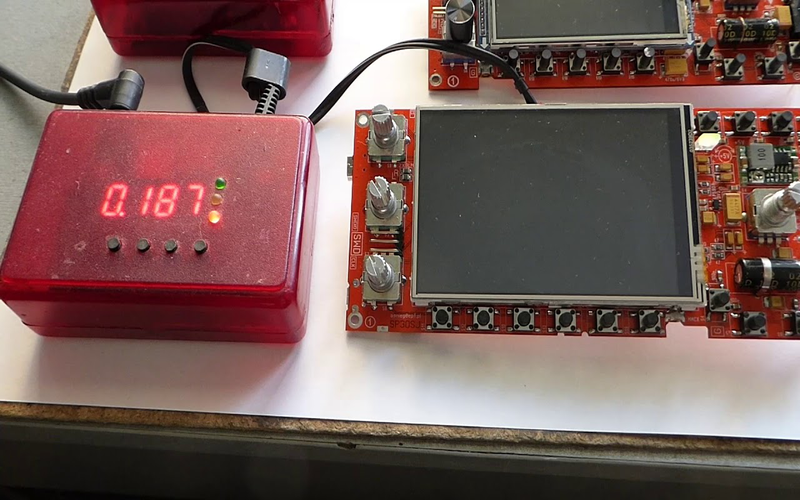LCD: (403, 89, 712, 317)
